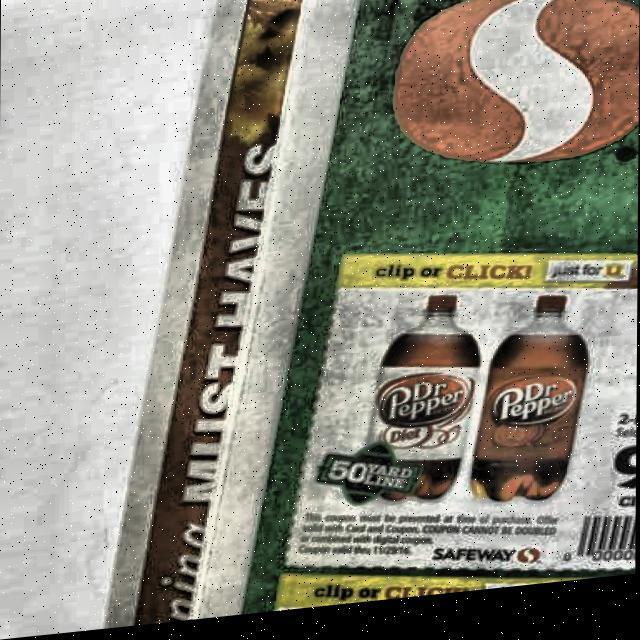paper: (101, 0, 640, 629)
